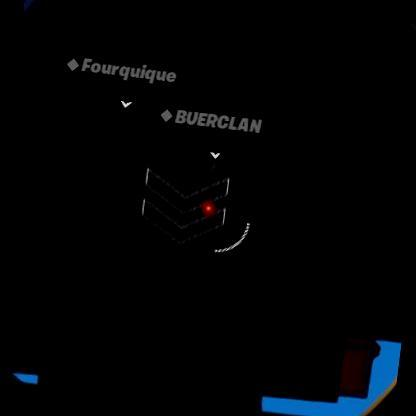person: (206, 152, 218, 172)
